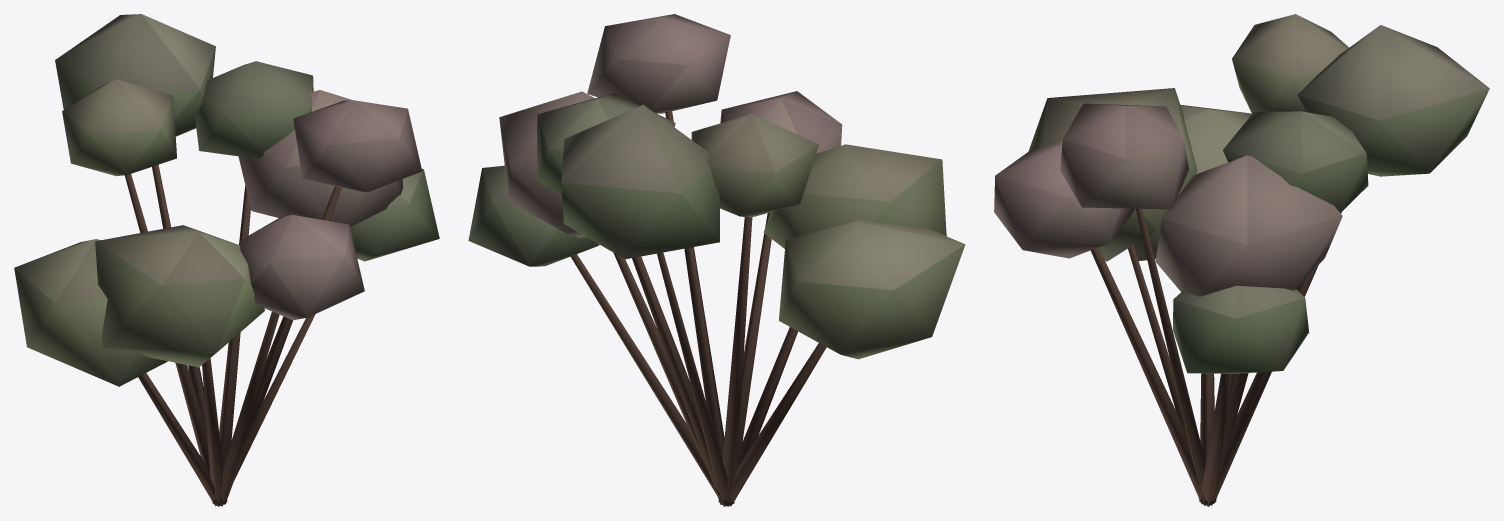
File: env_tamarisk.glb
3 views of the same model, side by side, from view 1: azimuth 30°, elevation 25°; view 2: azimuth 150°, elevation 25°; view 3: azimuth 270°, elevation 25° (orthographic). The views are drawn at different scales.
Parts seen in each view (by area): view 1: env_tamarisk; view 2: env_tamarisk; view 3: env_tamarisk.
Boxes of the visible parts, x1,y1,x2,y2 form: env_tamarisk: [14, 14, 439, 506]; env_tamarisk: [468, 14, 965, 506]; env_tamarisk: [994, 14, 1489, 506].
Size of the model in its own units: 3.11 by 3.14 by 2.93.
